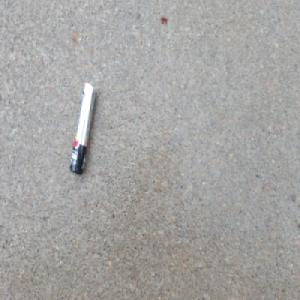Battery: (68, 79, 97, 175)
